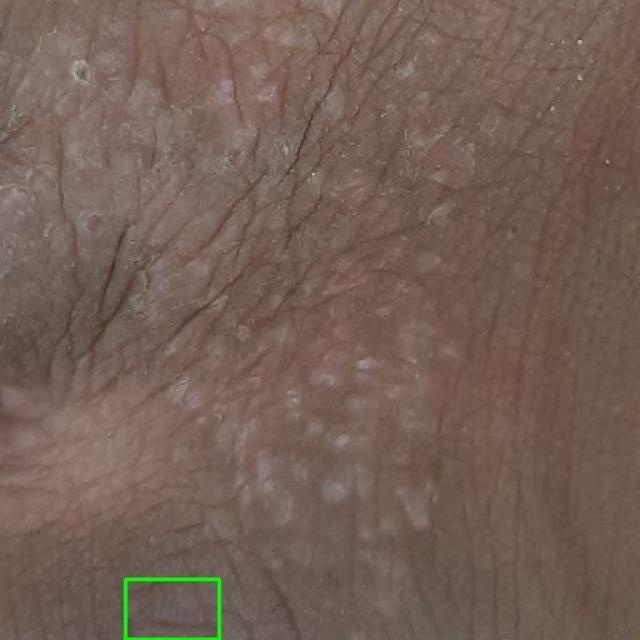Eczema: (125, 579, 219, 639)
